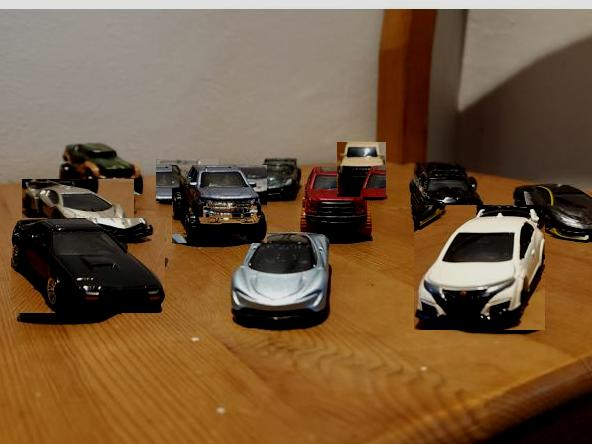toy-car: (415, 205, 546, 330), (12, 218, 166, 313), (231, 232, 330, 325), (172, 165, 267, 243), (23, 180, 135, 241), (299, 165, 372, 239), (513, 182, 592, 243), (409, 163, 485, 225), (59, 142, 143, 195), (337, 143, 386, 198), (157, 159, 220, 201), (255, 158, 301, 200)
